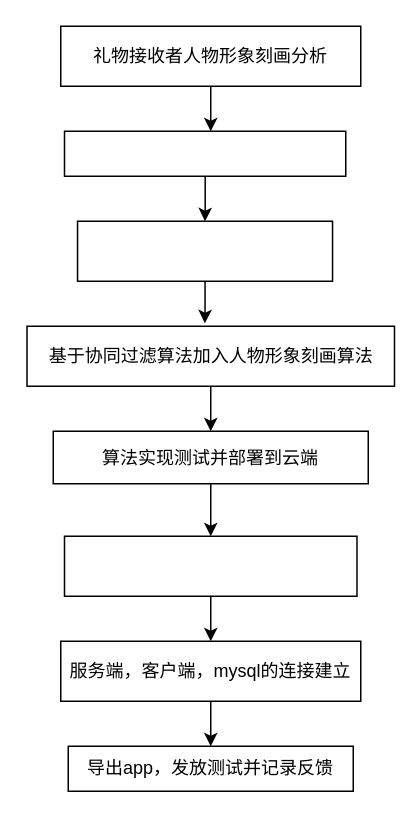
The diagram is 420 pixels wide and 818 high, and some of its shapes have lost their labels. Each missing label, with the box of its shape:
flutter以及andriod客户端的开发构建: (63, 535, 357, 596)
发放礼物接收者形象因子比重问卷: (63, 130, 346, 176)
回收调查问卷并统计因子比重: (76, 220, 333, 281)
